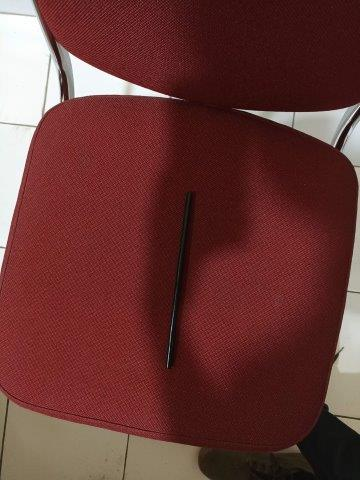sedotan: (167, 193, 192, 368)
